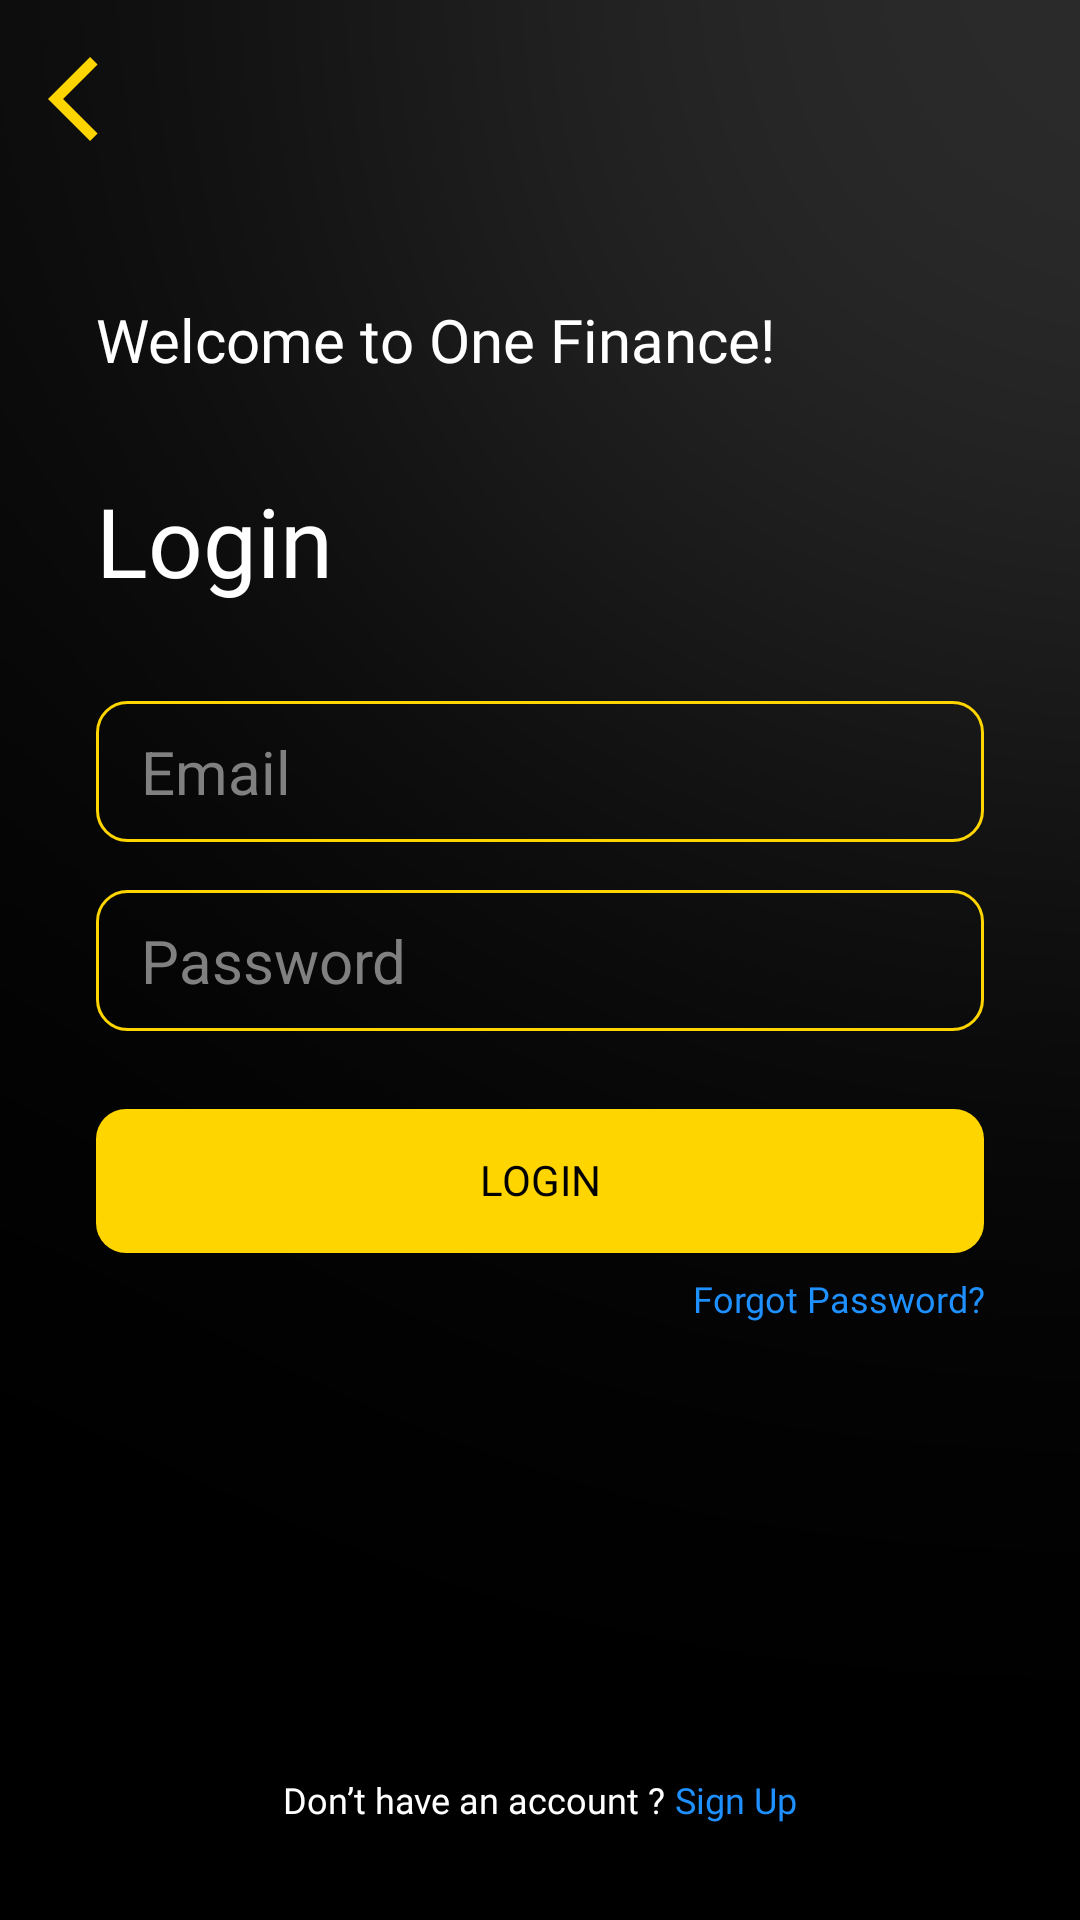

Icons on this 1080*1920 Android screen, each with the point to tap as (x,y):
back: (73,99)
